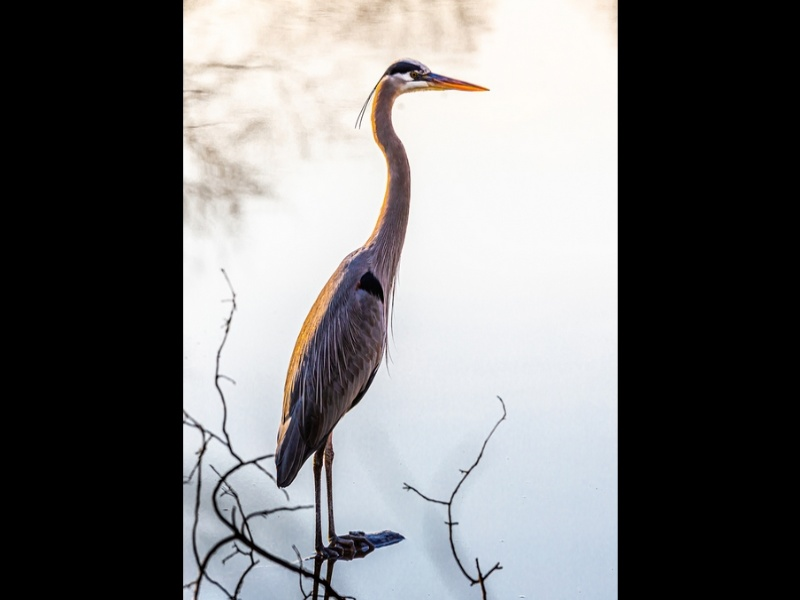heron: (274, 54, 492, 553)
